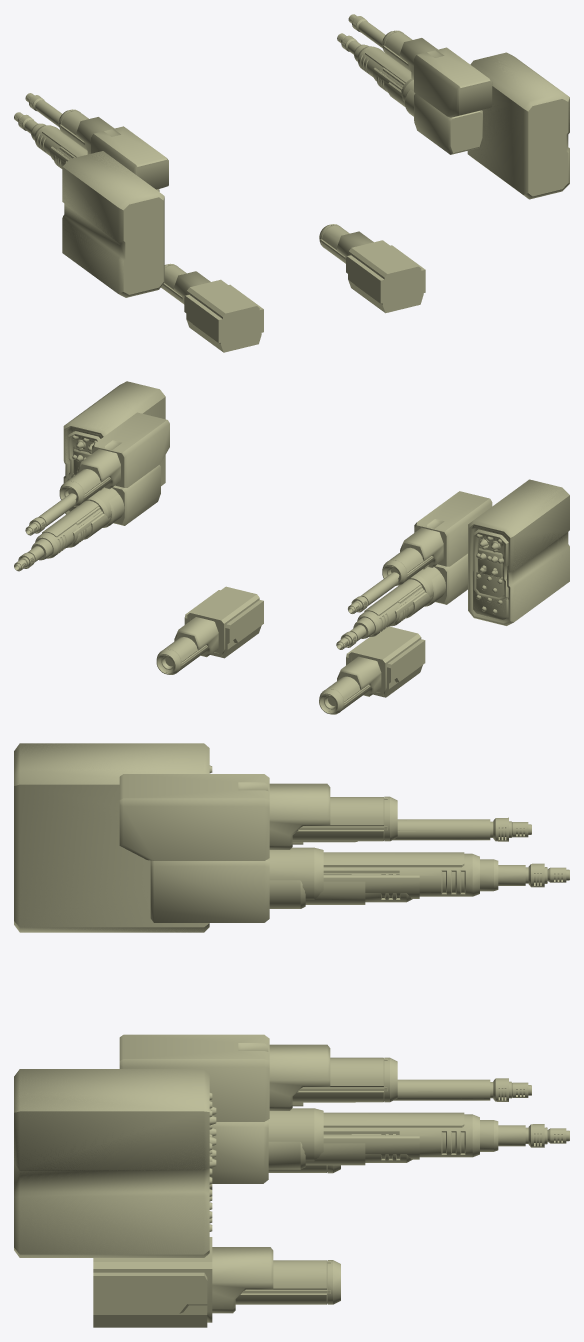
File: JagermechWeapons.glb
The picture shows the model from 3 angles, top to bottom: view 1: azimuth 30°, elevation 25°; view 2: azimuth 150°, elevation 25°; view 3: azimuth 270°, elevation 25°; orthographic projection. The views are drawn at different scales.
Parts seen in each view (by area): view 1: Forearm_Left_MH1_Missile10, Forearm_Right_MH1_Missile10, Forearm_Right_EH1_PPC, Forearm_Left_EH1_PPC, Forearm_Right_BH1_AC20, Torso_Left_EH1_PPC, Forearm_Left_MH1_Missile15, Forearm_Right_MH1_Missile15, Torso_Right_EH1_PPC, Torso_Right_EH1_Flamer, Torso_Left_EH1_Flamer, Forearm_Right_BH1_AC10 (+6 smaller); view 2: Forearm_Left_MH1_Missile10, Forearm_Right_EH1_PPC, Torso_Left_EH1_PPC, Forearm_Left_EH1_PPC, Forearm_Left_MH1_Missile15, Torso_Right_EH1_PPC, Forearm_Right_MH1_Missile10, Forearm_Right_BH1_AC20, Forearm_Left_BH1_AC10, Forearm_Right_BH1_AC10, Forearm_Left_BH1_AC20, Torso_Right_EH1_Laser (+7 smaller); view 3: Forearm_Right_MH1_Missile10, Forearm_Left_MH1_Missile10, Forearm_Left_EH1_PPC, Forearm_Right_EH1_PPC, Forearm_Right_MH1_Missile15, Forearm_Left_BH1_AC20, Forearm_Right_BH1_AC10, Forearm_Left_BH1_AC10, Torso_Right_EH1_Laser, Torso_Right_EH1_PPC, Forearm_Right_BH1_AC20, Forearm_Left_MH1_Missile15 (+6 smaller).
Boxes of the visible parts, box(x1,y1,x2,y2) form: Forearm_Left_MH1_Missile10: box(62, 152, 164, 297); Forearm_Right_MH1_Missile10: box(468, 53, 569, 199); Forearm_Right_EH1_PPC: box(382, 30, 492, 117); Forearm_Left_EH1_PPC: box(58, 109, 168, 189); Forearm_Right_BH1_AC20: box(376, 67, 482, 154); Torso_Left_EH1_PPC: box(161, 263, 263, 352); Forearm_Left_MH1_Missile15: box(62, 151, 154, 290); Forearm_Right_MH1_Missile15: box(467, 52, 569, 194); Torso_Right_EH1_PPC: box(319, 224, 393, 313); Torso_Right_EH1_Flamer: box(347, 245, 425, 311); Torso_Left_EH1_Flamer: box(218, 281, 263, 352); Forearm_Right_BH1_AC10: box(354, 44, 413, 101); Forearm_Left_MH1_Missile10: box(468, 480, 569, 625); Forearm_Right_EH1_PPC: box(59, 412, 169, 506); Torso_Left_EH1_PPC: box(319, 626, 425, 714); Forearm_Left_EH1_PPC: box(382, 491, 492, 585); Forearm_Left_MH1_Missile15: box(468, 479, 569, 624); Torso_Right_EH1_PPC: box(156, 594, 263, 674); Forearm_Right_MH1_Missile10: box(63, 381, 165, 514); Forearm_Right_BH1_AC20: box(69, 465, 160, 547); Forearm_Left_BH1_AC10: box(353, 567, 440, 638); Forearm_Right_BH1_AC10: box(31, 488, 118, 560); Forearm_Left_BH1_AC20: box(390, 553, 467, 626); Torso_Right_EH1_Laser: box(184, 587, 262, 658); Forearm_Right_MH1_Missile10: box(14, 1069, 212, 1257); Forearm_Left_MH1_Missile10: box(14, 743, 212, 932); Forearm_Left_EH1_PPC: box(119, 774, 397, 860); Forearm_Right_EH1_PPC: box(119, 1034, 397, 1121); Forearm_Right_MH1_Missile15: box(14, 1069, 212, 1257); Forearm_Left_BH1_AC20: box(150, 858, 412, 922); Forearm_Right_BH1_AC10: box(268, 1108, 498, 1161); Forearm_Left_BH1_AC10: box(269, 847, 498, 899); Torso_Right_EH1_Laser: box(93, 1237, 212, 1327); Torso_Right_EH1_PPC: box(212, 1247, 340, 1313); Forearm_Right_BH1_AC20: box(209, 1119, 412, 1183); Forearm_Left_MH1_Missile15: box(14, 743, 209, 932).
Bounding box in the file's own units: 1.95 × 0.8271 × 1.26.
